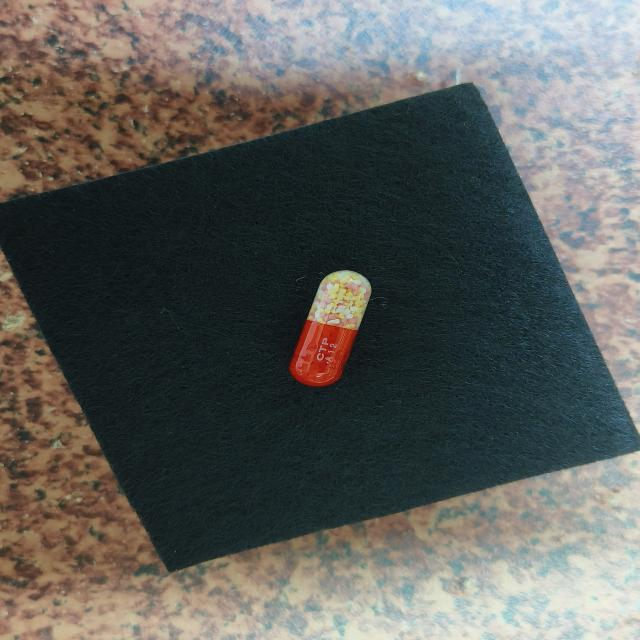Intact Capsule: (289, 270, 371, 387)
